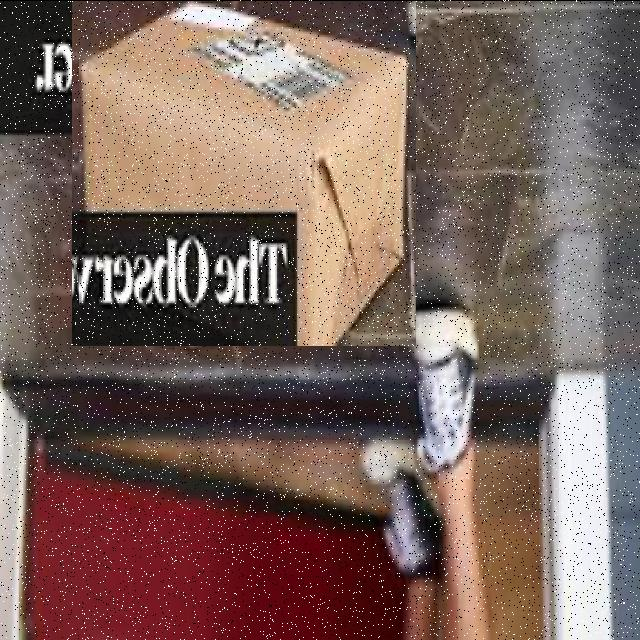normal: (72, 0, 416, 345)
